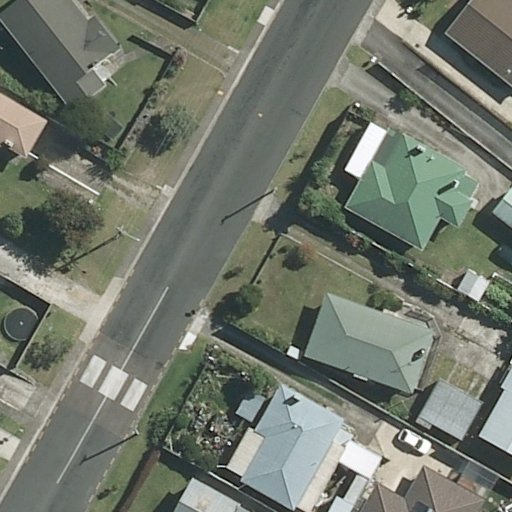DT: (109, 222, 145, 247), (130, 423, 141, 440), (269, 187, 280, 200)
